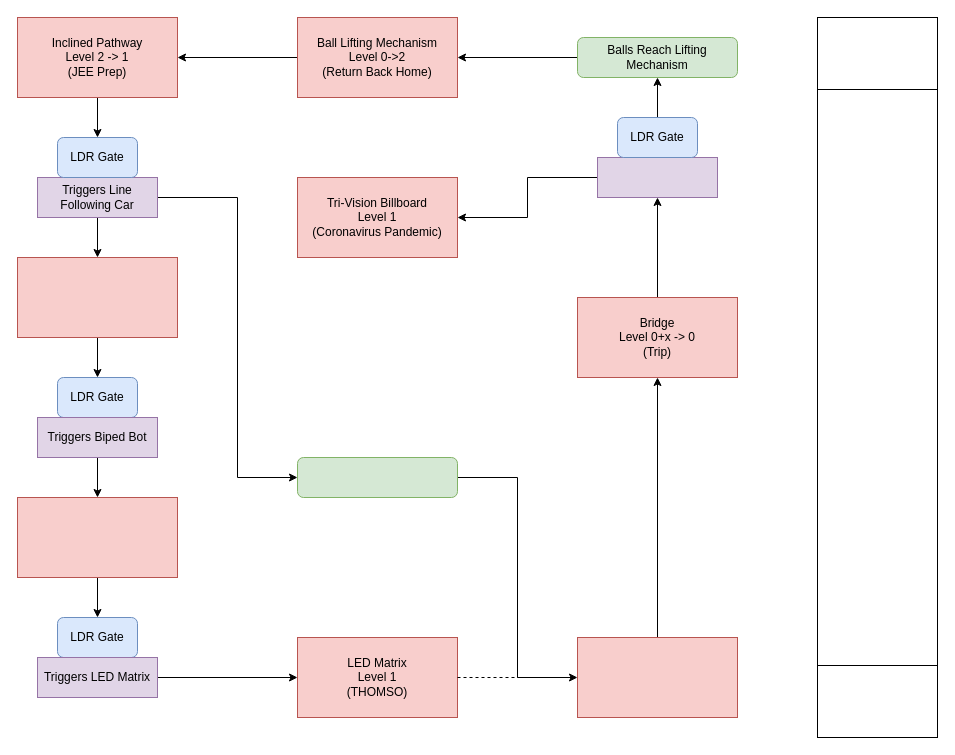
Some shapes in this 955 by 755 pixel diagram are drawn without their labels. Each missing label, with the centre of its shape:
"Balls Passed into Tube on Level 1" goes at [377,477].
"Biped Bot Level 1 (Reached College)" goes at [97,537].
"Group Recruitments Level 1 -> 0+x" goes at [657,677].
"Line Following Car (Return back to Start) Level 1 (JEE + Counselling)" goes at [97,297].
"RUBE GOLDBERG MACHINE" goes at [877,377].
"Triggers Tri-vision Billboard" goes at [657,177].
